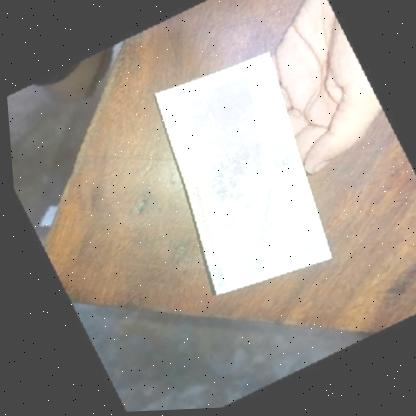two_hundred-back-vef: (140, 51, 337, 300)
